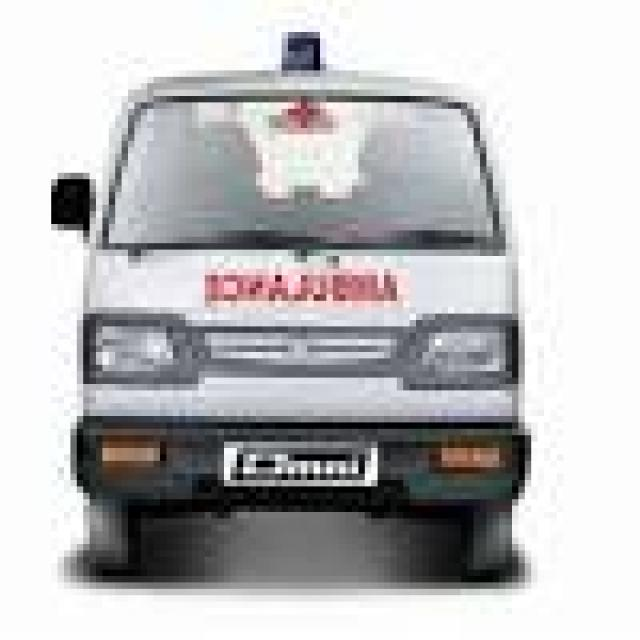ambulance: (34, 46, 559, 581)
